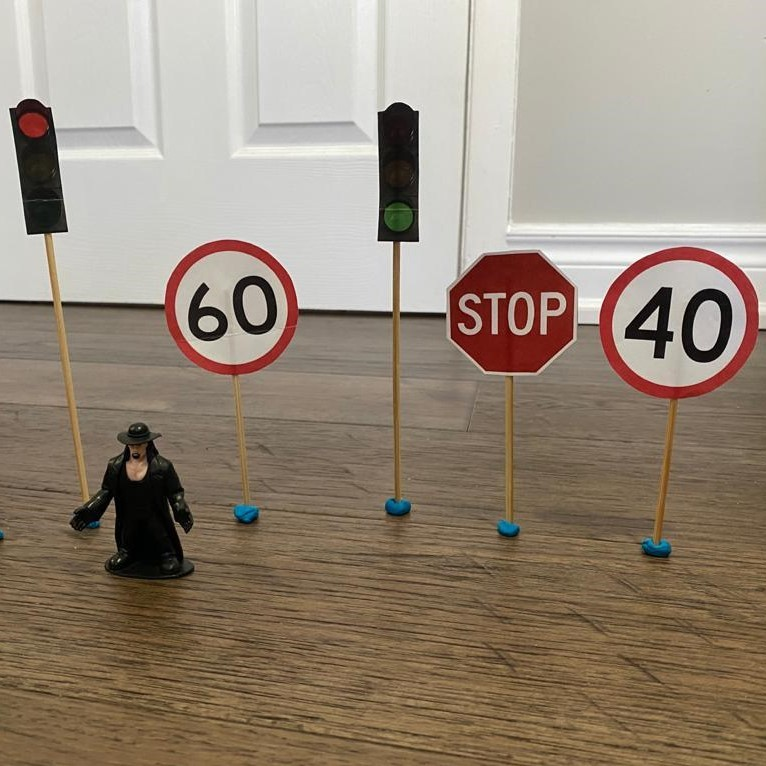Green Traffic Light: (368, 100, 424, 250)
Person: (66, 418, 201, 591)
Red Traffic Light: (4, 97, 79, 244)
Speed Limit 40: (600, 244, 761, 408)
Speed Limit 60: (161, 238, 302, 384)
Stop Sign: (440, 247, 577, 383)
